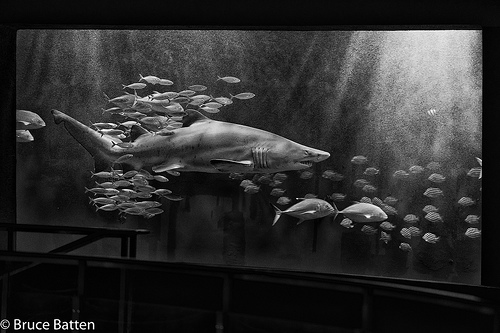shark: (43, 78, 351, 193)
